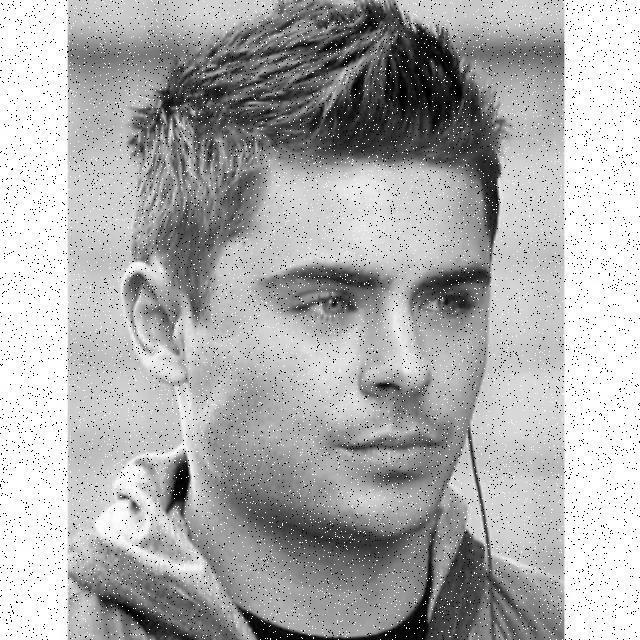real: (184, 135, 494, 545)
